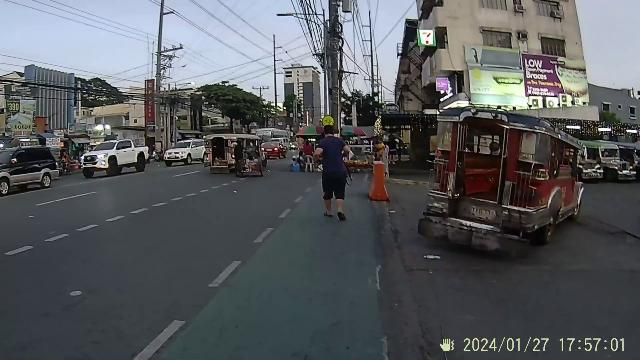car: (435, 104, 585, 250), (204, 130, 268, 178)
utility_post: (148, 2, 184, 154), (321, 1, 347, 129), (266, 30, 288, 112)
